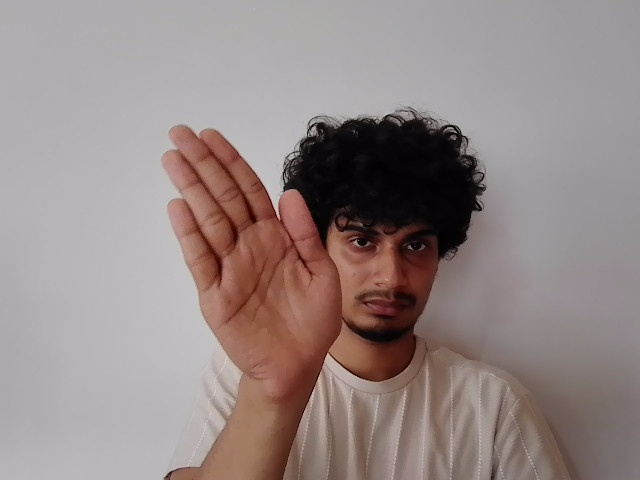hello: (159, 124, 348, 371)
